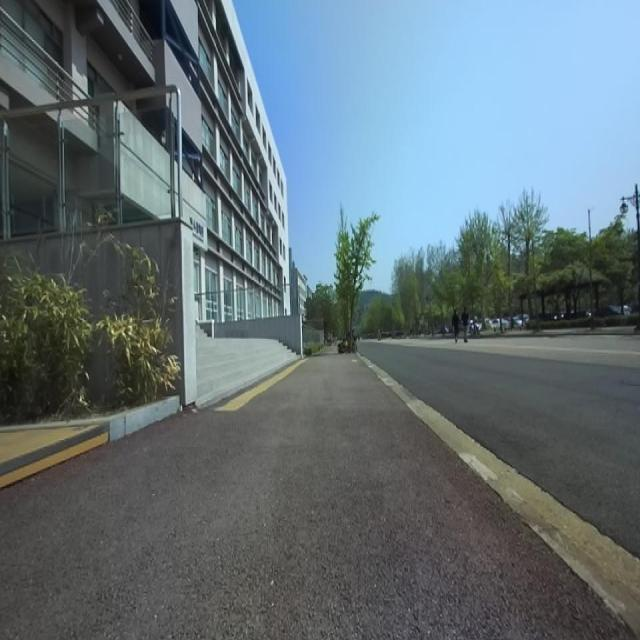sidewalk: (0, 355, 633, 640), (361, 356, 640, 640)
